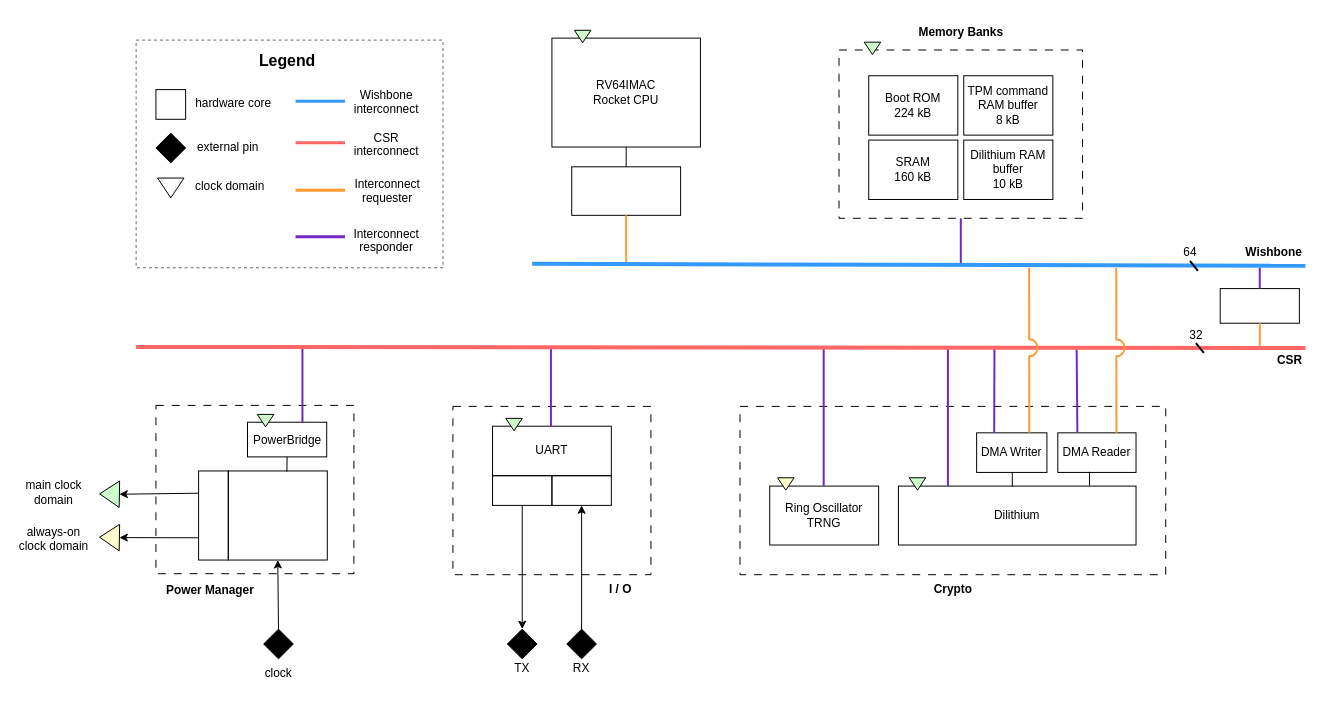
This 1326x706 diagram has some shape labels left out. The centre of each missing label's shape, as x and y in pixels:
"AXI-Lite to Wishbone Bridge" belongs at (626,190).
"Clock and Reset Generator" belongs at (277,515).
"PLL" belongs at (213,515).
"RX FIFO 16x1" belongs at (581,490).
"TX FIFO 16x1" belongs at (522,490).
"Wishbone to CSR Bridge" belongs at (1259,305).
